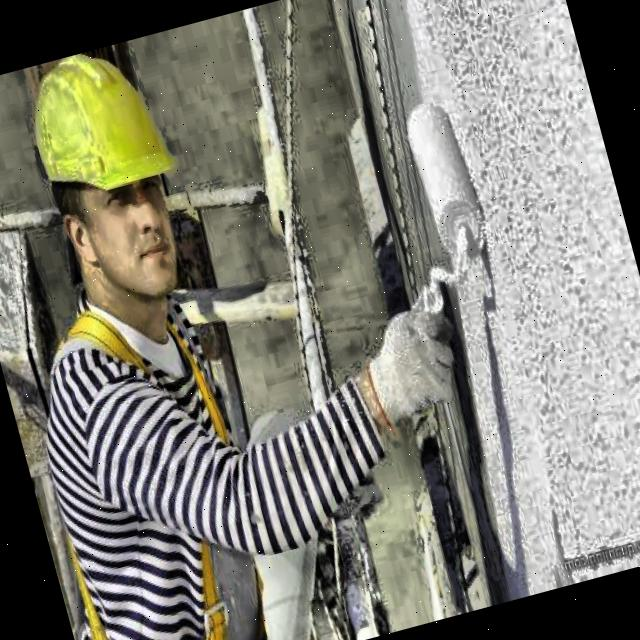helmet: (0, 34, 223, 352)
